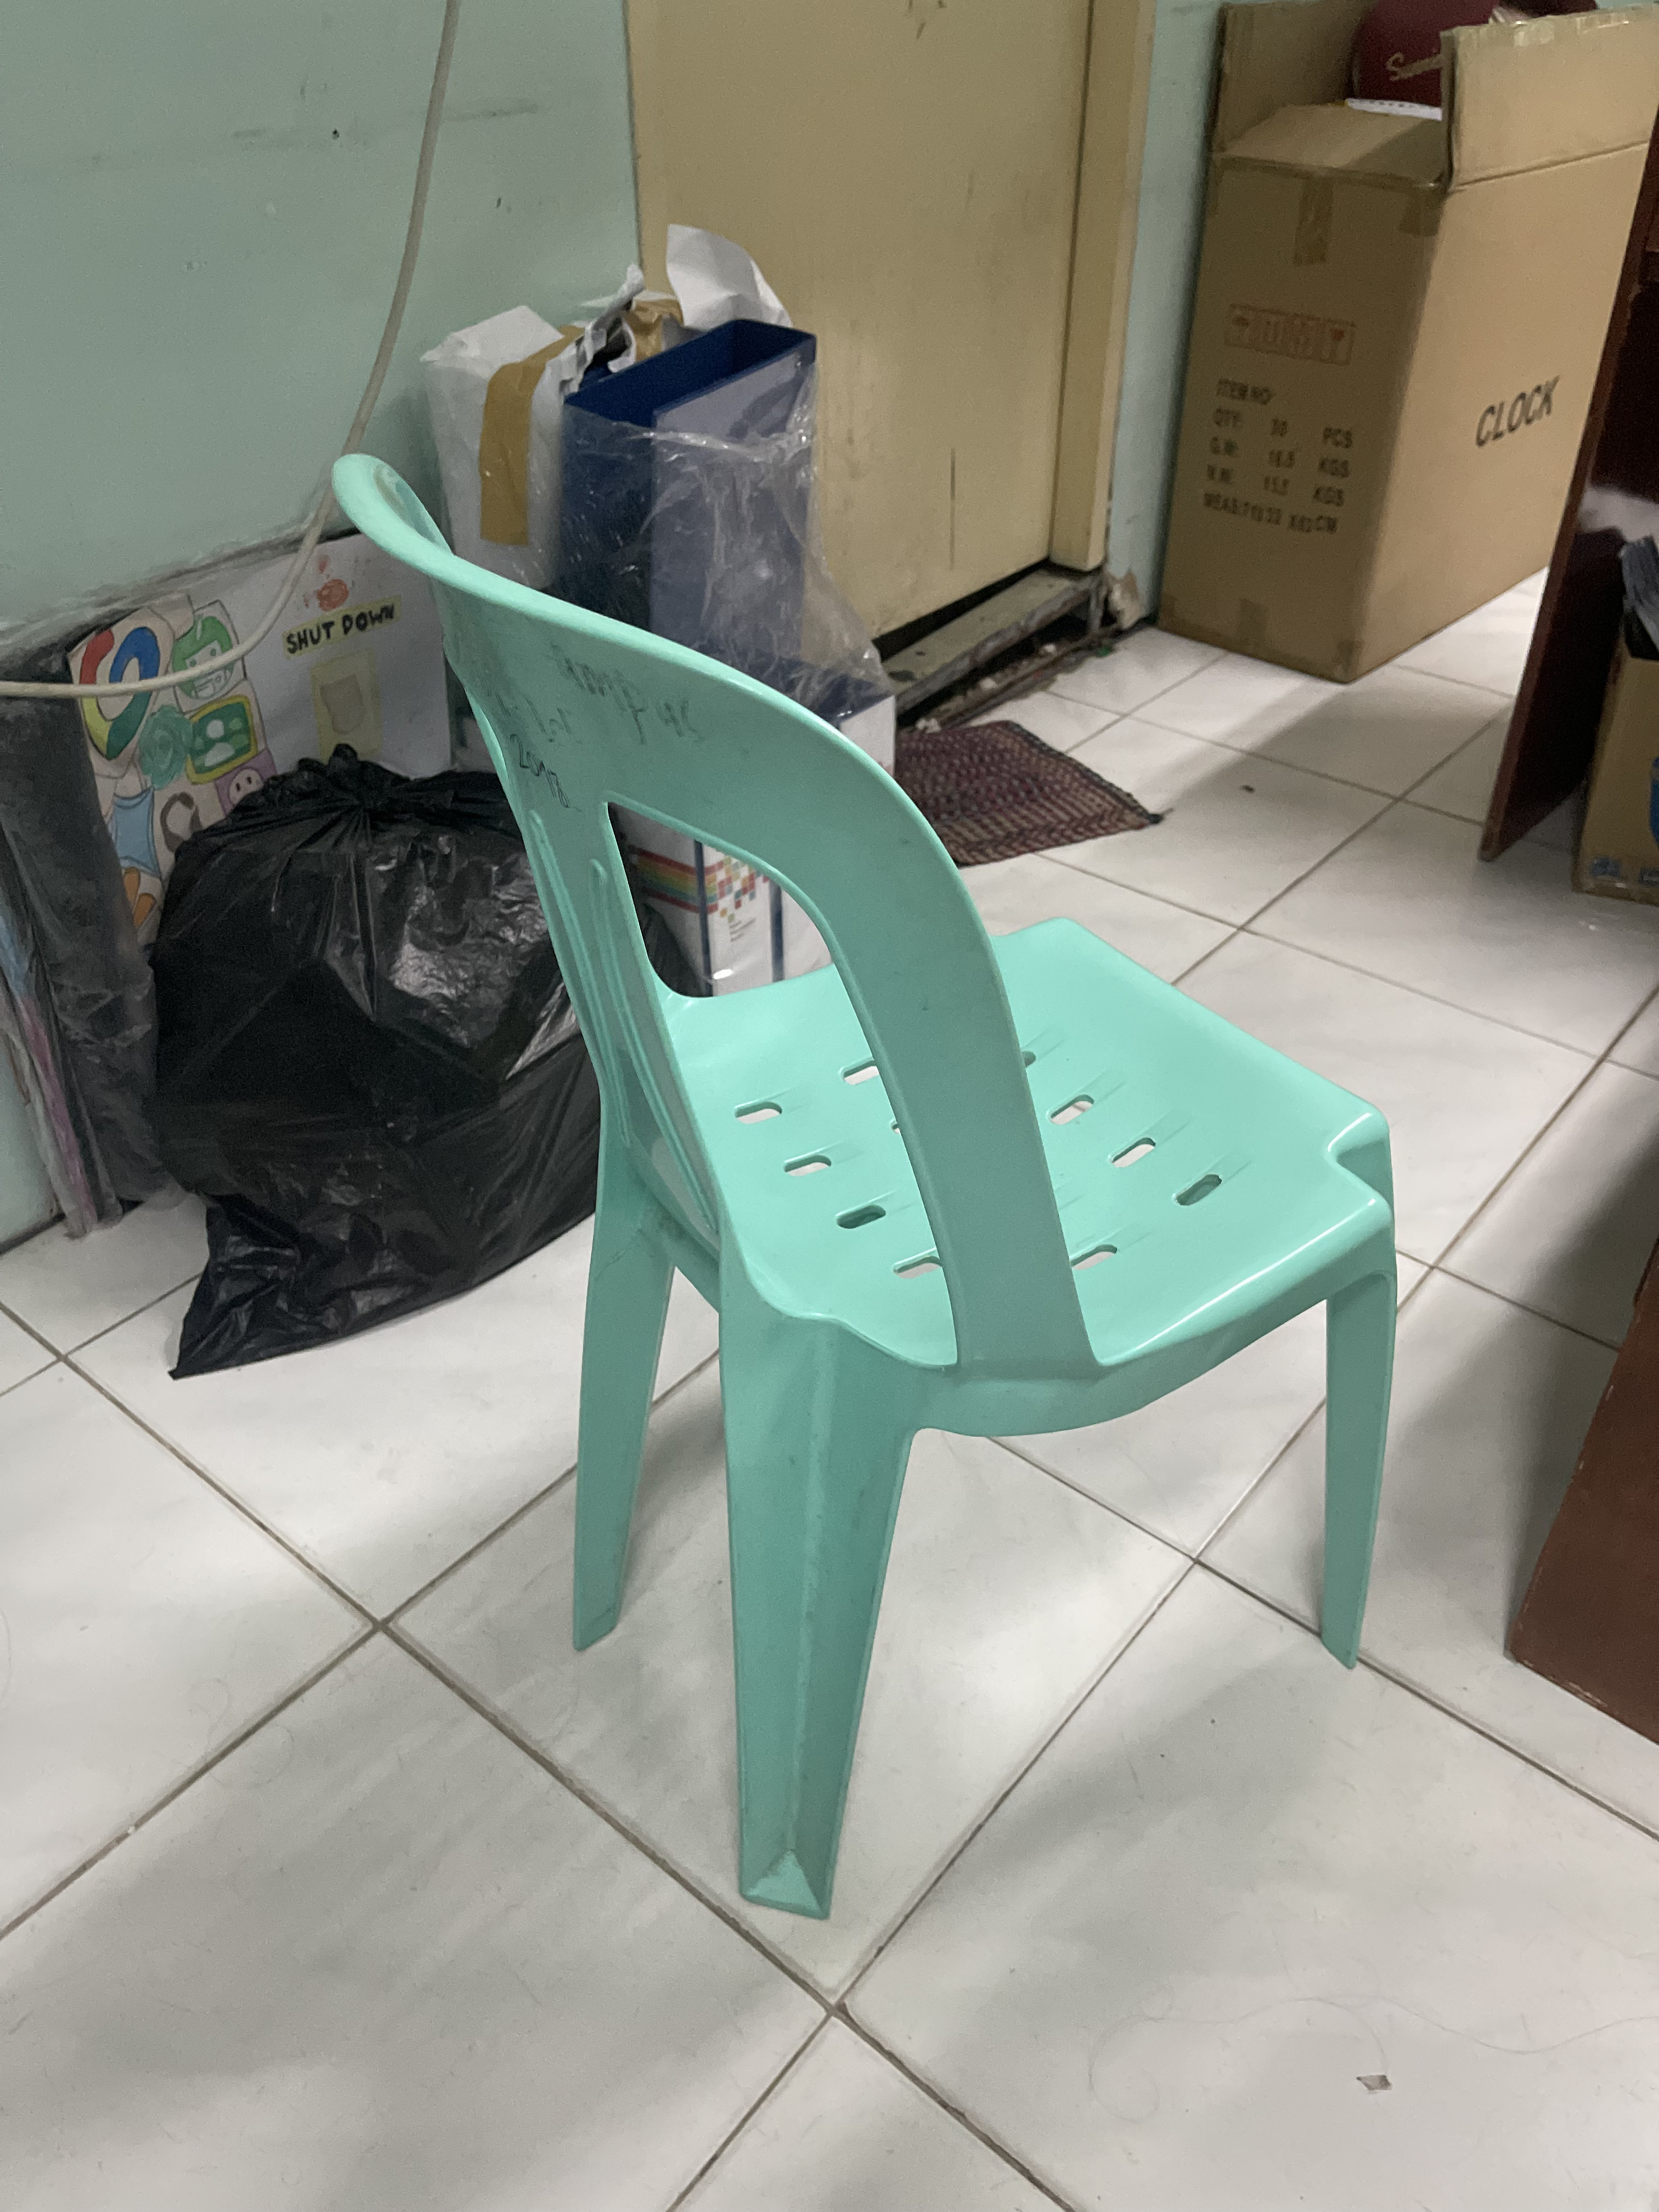chair2: (328, 441, 1413, 1918)
